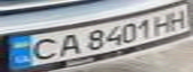0: (118, 19, 142, 43)
1: (133, 16, 157, 39)
4: (103, 22, 127, 47)
8: (84, 26, 109, 52)
A: (51, 32, 84, 57)
C: (21, 35, 66, 62)
H: (163, 7, 193, 32), (148, 11, 178, 35)
